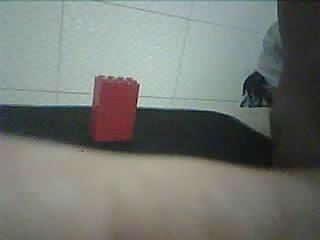lego: (87, 74, 141, 142)
